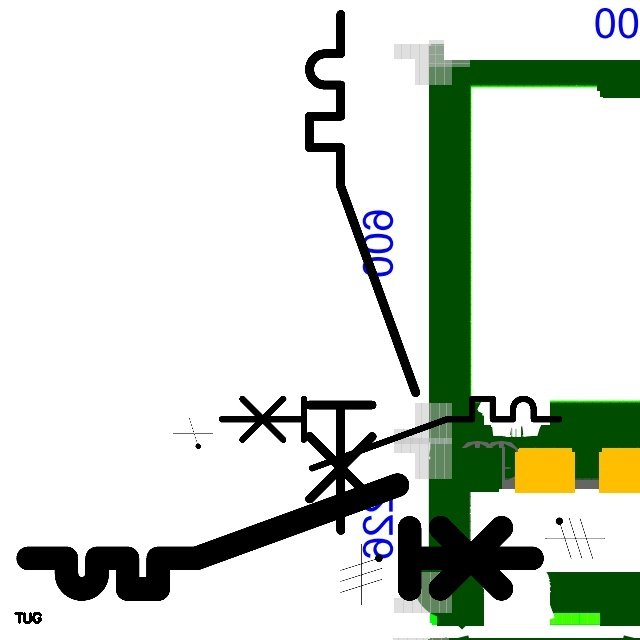interruptor_termomagnetico: (296, 1, 428, 543), (15, 472, 545, 602), (213, 390, 568, 477)
